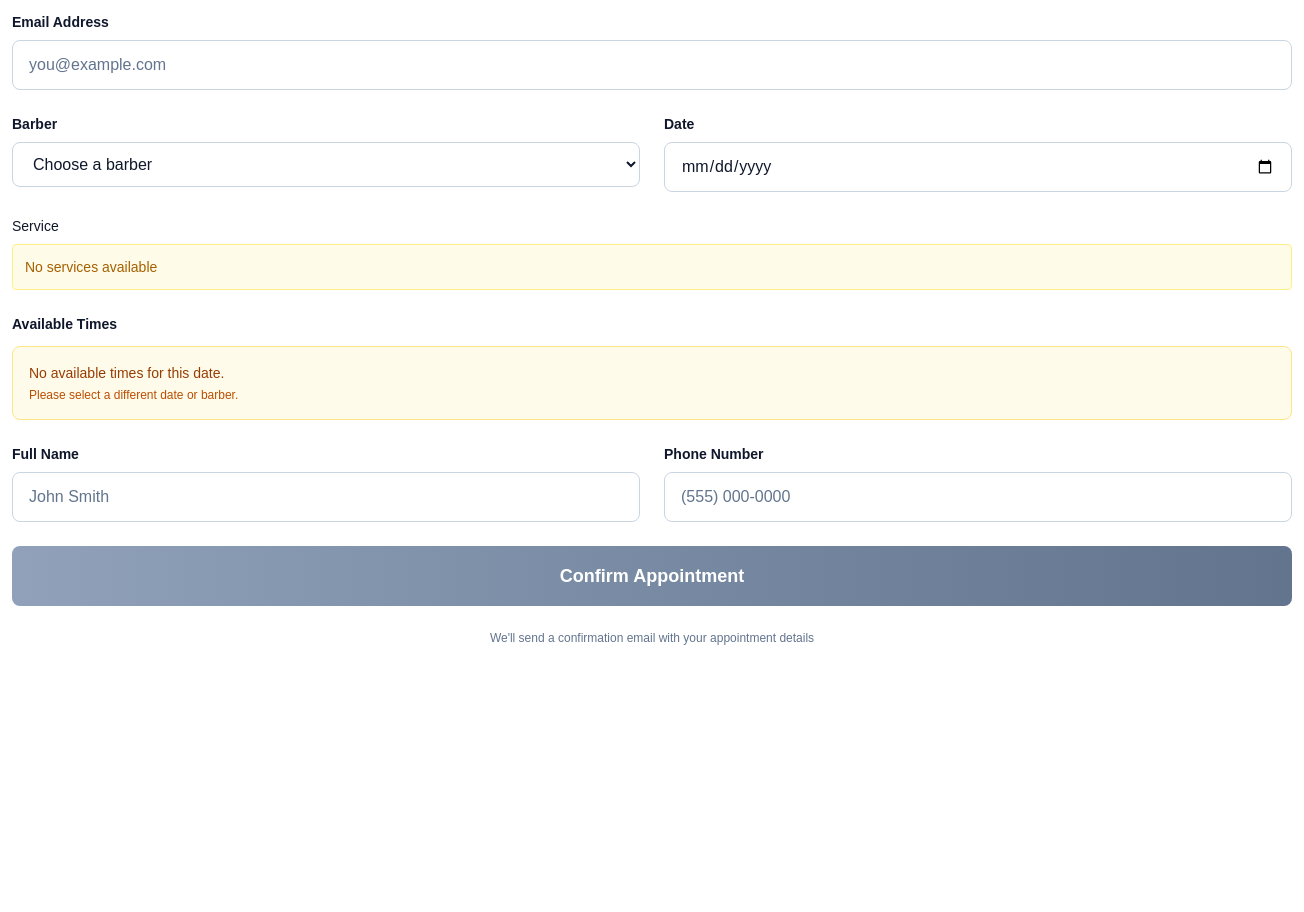
BookingForm Component › Customer Lookup › should fetch existing customer when email is valid
Type "jane@example.com" into the field labelled "Email Address" at (652, 65), box [12,40,1292,90]
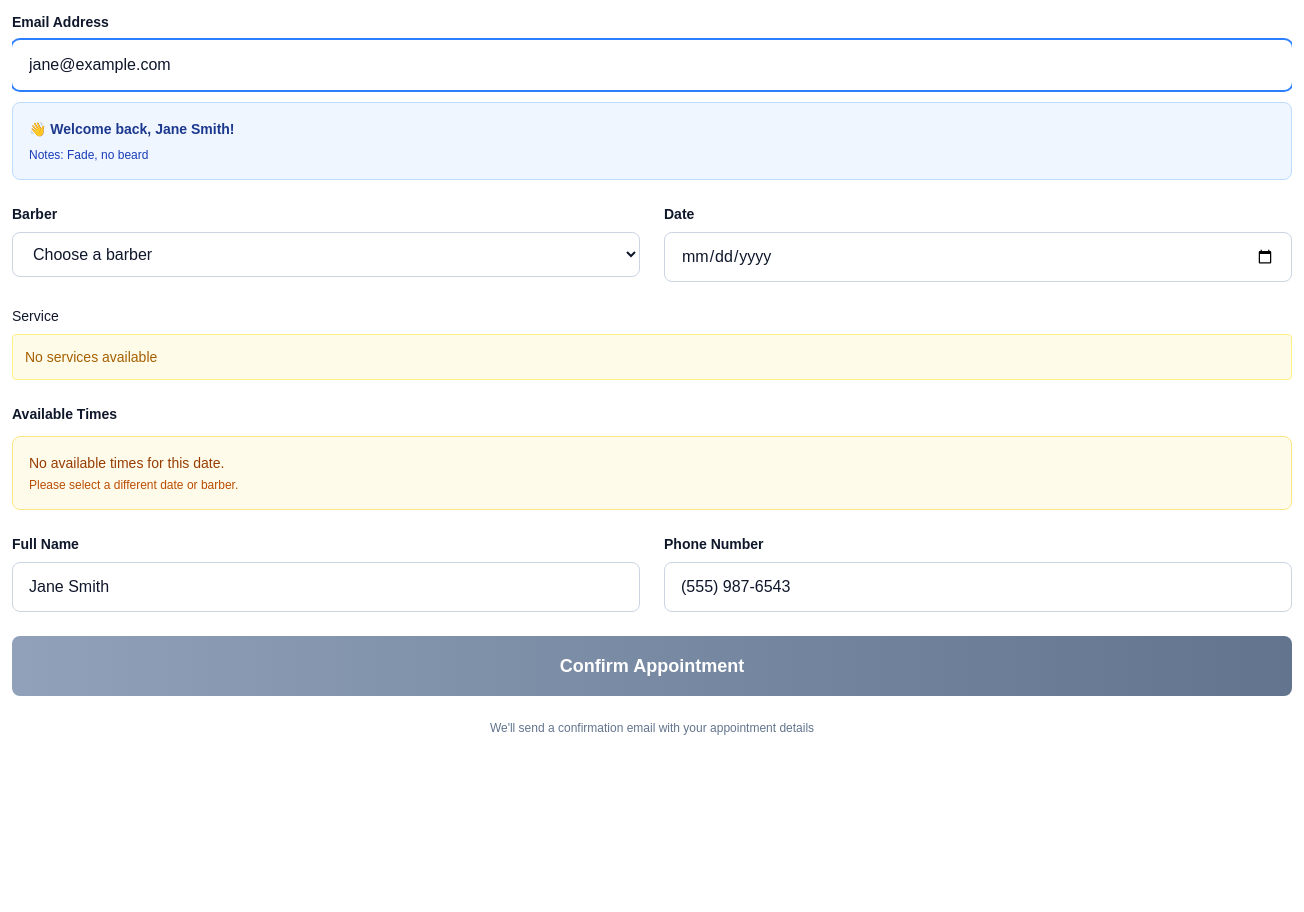
Expected: the text "👋 Welcome back, Jane Smith!" is shown, [29,121,234,137]
